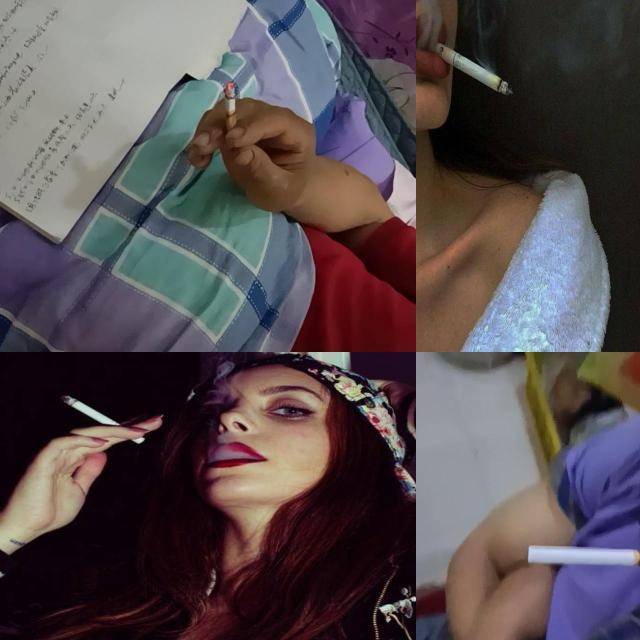smoking: (428, 39, 514, 97), (52, 394, 145, 446), (528, 546, 640, 570), (224, 82, 238, 142)
